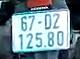0: (56, 29, 65, 48)
1: (18, 32, 24, 50)
2: (52, 12, 61, 29), (25, 33, 34, 50)
5: (34, 31, 44, 48)
6: (20, 15, 28, 33)
7: (28, 13, 35, 33)
8: (47, 30, 55, 47)
D: (44, 13, 52, 30)
